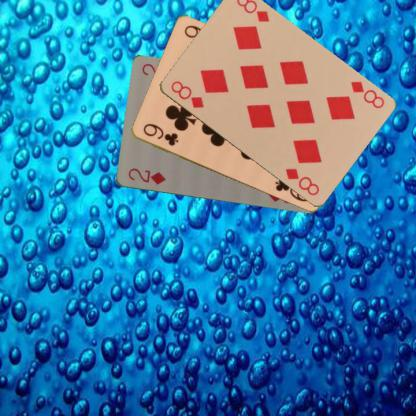2d: (126, 166, 166, 186)
8d: (348, 78, 386, 110), (168, 78, 205, 110)
9c: (140, 121, 180, 147)
